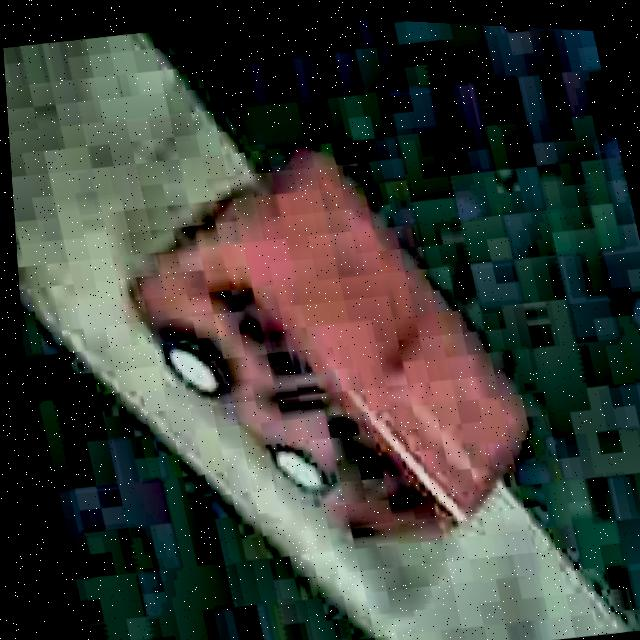bus: (92, 120, 560, 585)
